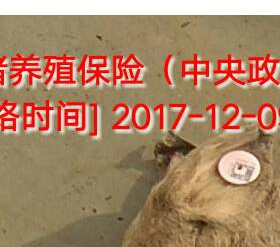text: (209, 140, 270, 194)
